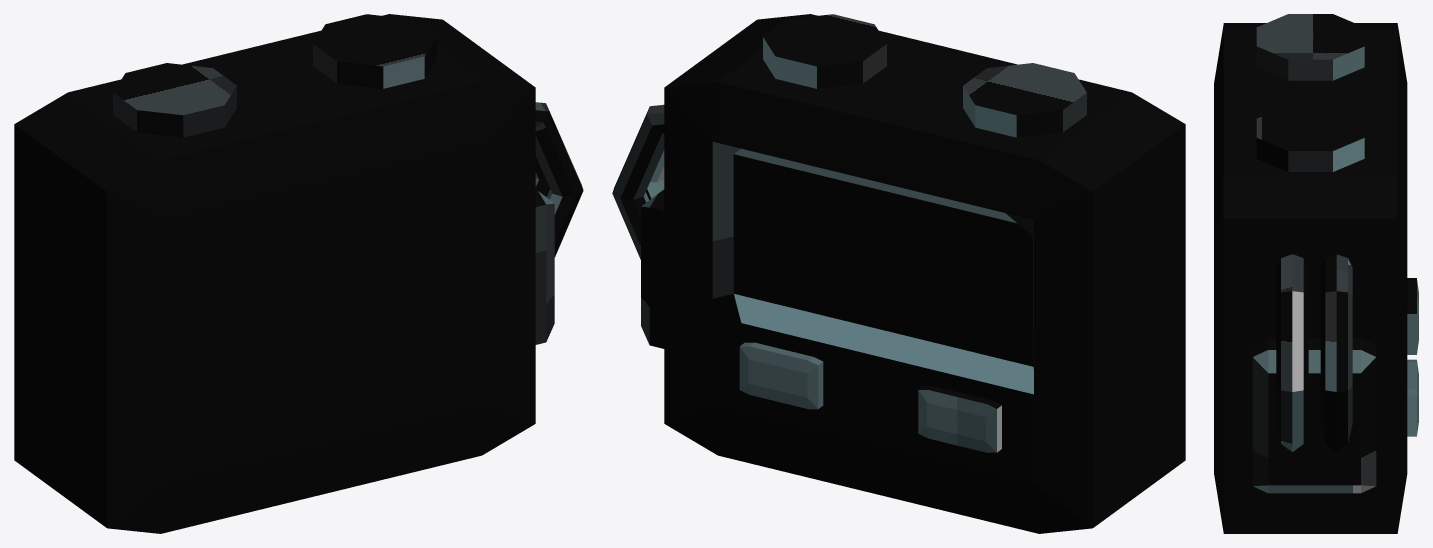
File: electric_thermometer.obj
3 views of the same model, side by side, from view 1: azimuth 30°, elevation 25°; view 2: azimuth 150°, elevation 25°; view 3: azimuth 270°, elevation 25° (orthographic). The views are drawn at different scales.
Visible parts, largest first — view 1: 1, 5, 6, 8, 4; view 2: 1, 5, 6, 3, 2, 7, 4; view 3: 1, 4, 5, 6, 7, 8, 3, 2.
Part boxes in pixels (<box>): 1: <box>14,14,535,533</box>; 5: <box>313,14,436,88</box>; 6: <box>113,63,236,137</box>; 8: <box>535,102,583,257</box>; 4: <box>535,189,554,344</box>; 1: <box>664,14,1185,533</box>; 5: <box>763,14,886,88</box>; 6: <box>963,63,1086,137</box>; 3: <box>739,342,823,409</box>; 2: <box>918,386,1001,452</box>; 7: <box>612,104,664,259</box>; 4: <box>641,189,664,348</box>; 1: <box>1214,23,1407,533</box>; 4: <box>1252,338,1376,493</box>; 5: <box>1256,105,1364,171</box>; 6: <box>1256,14,1364,80</box>; 7: <box>1320,254,1352,451</box>; 8: <box>1276,254,1308,451</box>; 3: <box>1407,359,1418,436</box>; 2: <box>1407,278,1418,354</box>.
Bounding box in the file's own units: 0.6712 × 0.4969 × 0.2484.
